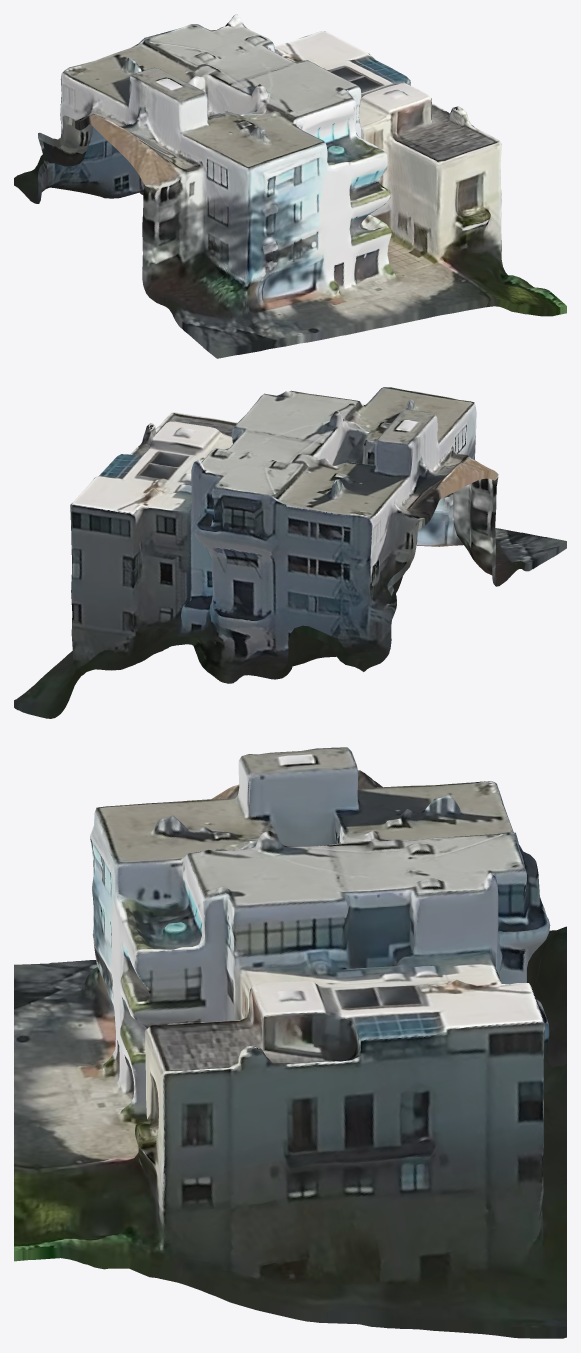
Rendered from z20-167752-405191-h0-yup-uvflip-v3-world.glb.
3 views of the same model, one above another, from view 1: azimuth 30°, elevation 25°; view 2: azimuth 150°, elevation 25°; view 3: azimuth 270°, elevation 25° (orthographic). The views are drawn at different scales.
Size of the model in its own units: 30.16 by 23.48 by 30.32.
Materials: 1 (1 with a texture image).
